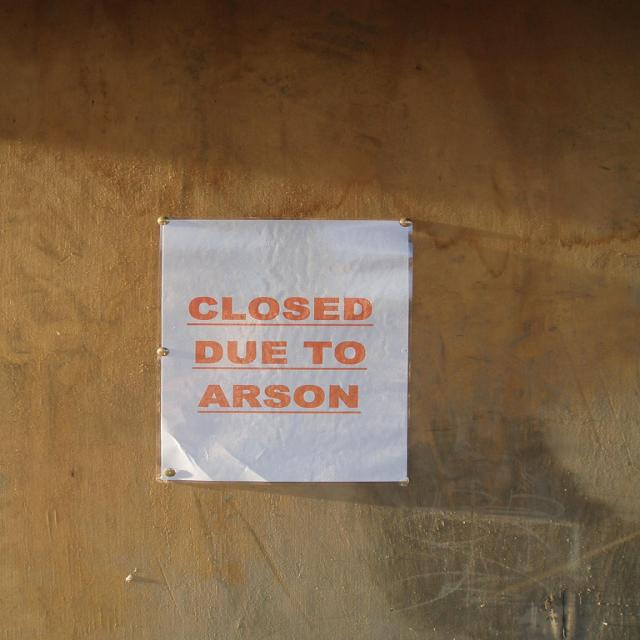no_fire: (54, 108, 606, 633)
